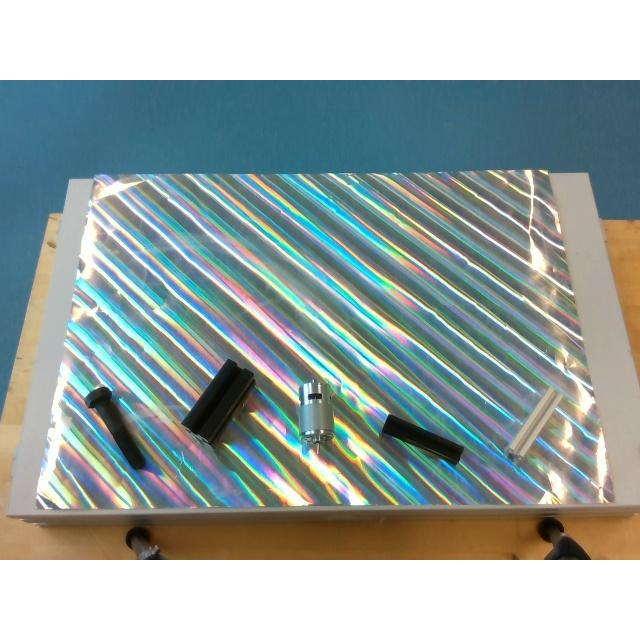F20_20_B: (381, 414, 464, 466)
F20_20_G: (504, 387, 562, 461)
M20_100: (85, 388, 145, 468)
Motor2: (298, 378, 334, 454)
S40_40_B: (182, 359, 254, 445)
